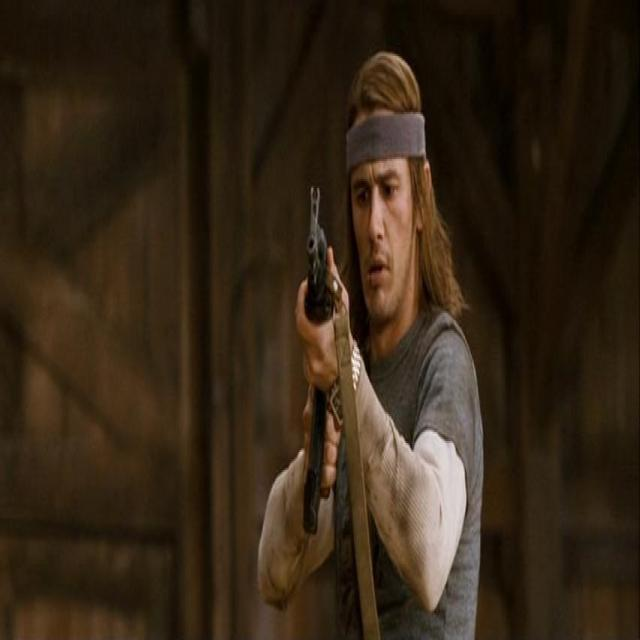gun-knife-thesis - v11 Yolov5 augmented: (288, 166, 372, 555)
